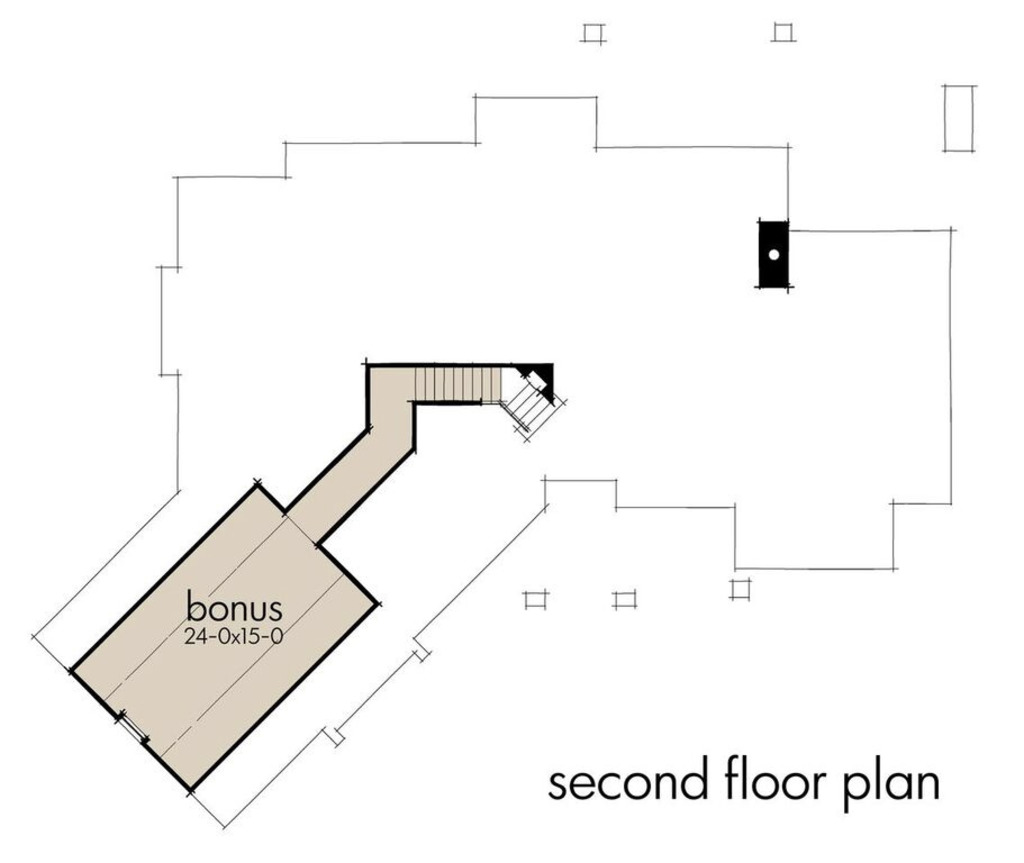stairs: (375, 338, 569, 448)
window: (101, 705, 169, 760)
